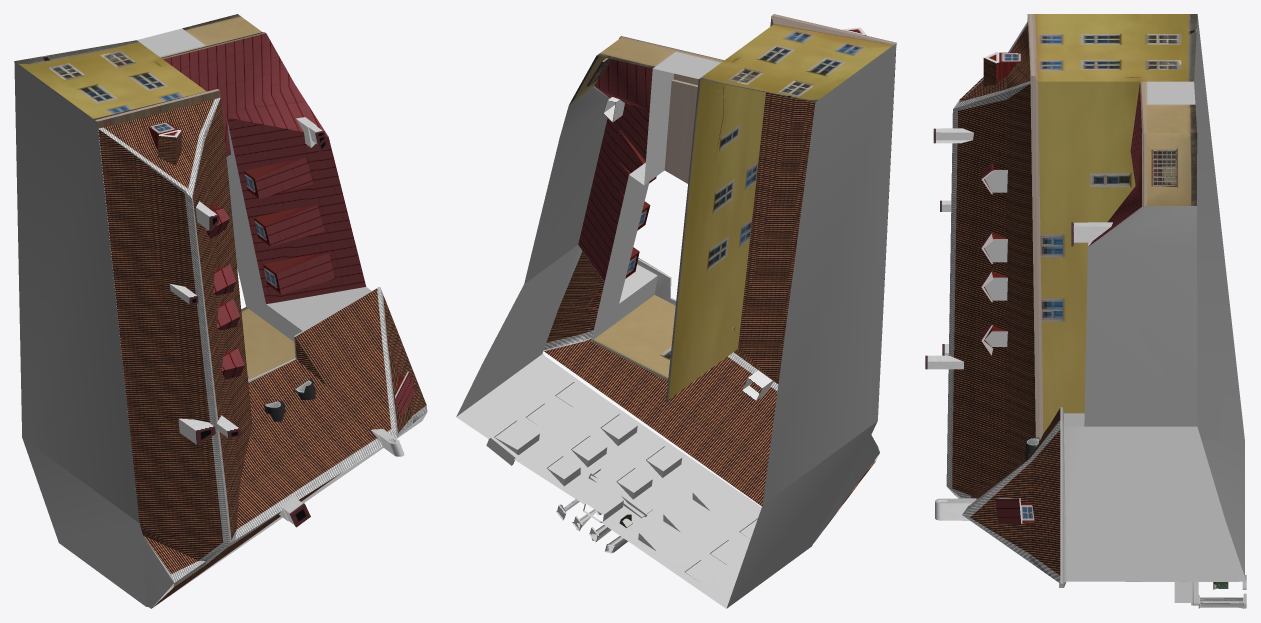
The model's file is Lossi_plats_4-origo.obj.
The picture shows the model from 3 angles, left to right: view 1: azimuth 30°, elevation 25°; view 2: azimuth 150°, elevation 25°; view 3: azimuth 270°, elevation 25°; orthographic projection. The views are drawn at different scales.
Parts seen in each view (by area): view 1: Lossi_plats_4; view 2: Lossi_plats_4; view 3: Lossi_plats_4.
Part boxes in pixels (box(x1,y1,x2,y2)): Lossi_plats_4: box(14, 14, 427, 608); Lossi_plats_4: box(456, 14, 896, 608); Lossi_plats_4: box(925, 14, 1246, 608).
Size of the model in its own units: 25.31 by 36 by 19.81.
